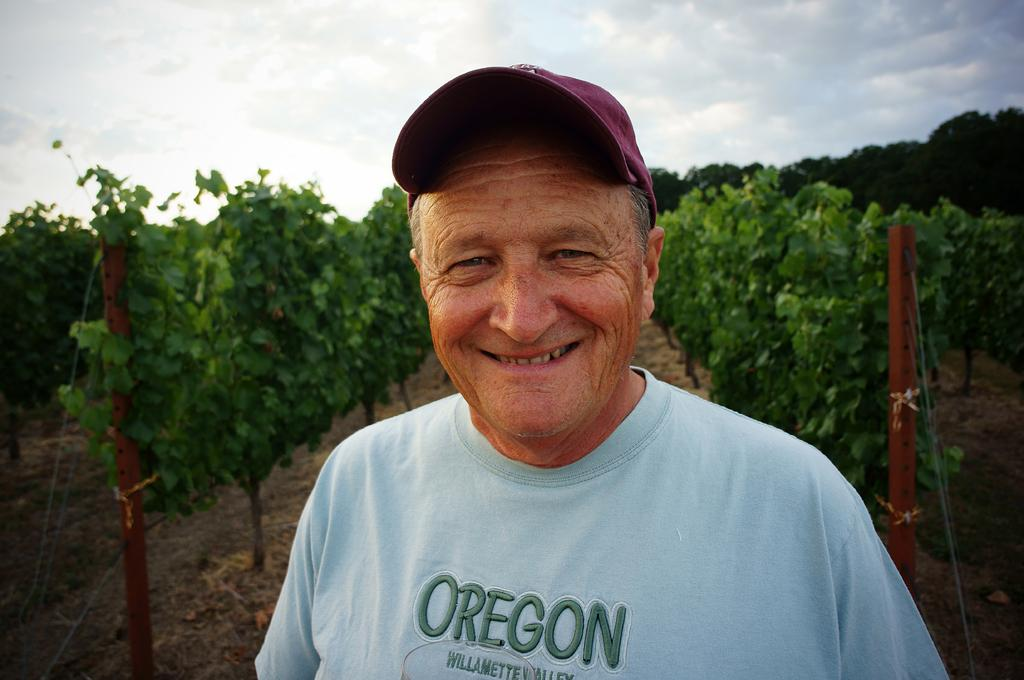Hat: (388, 59, 658, 229)
